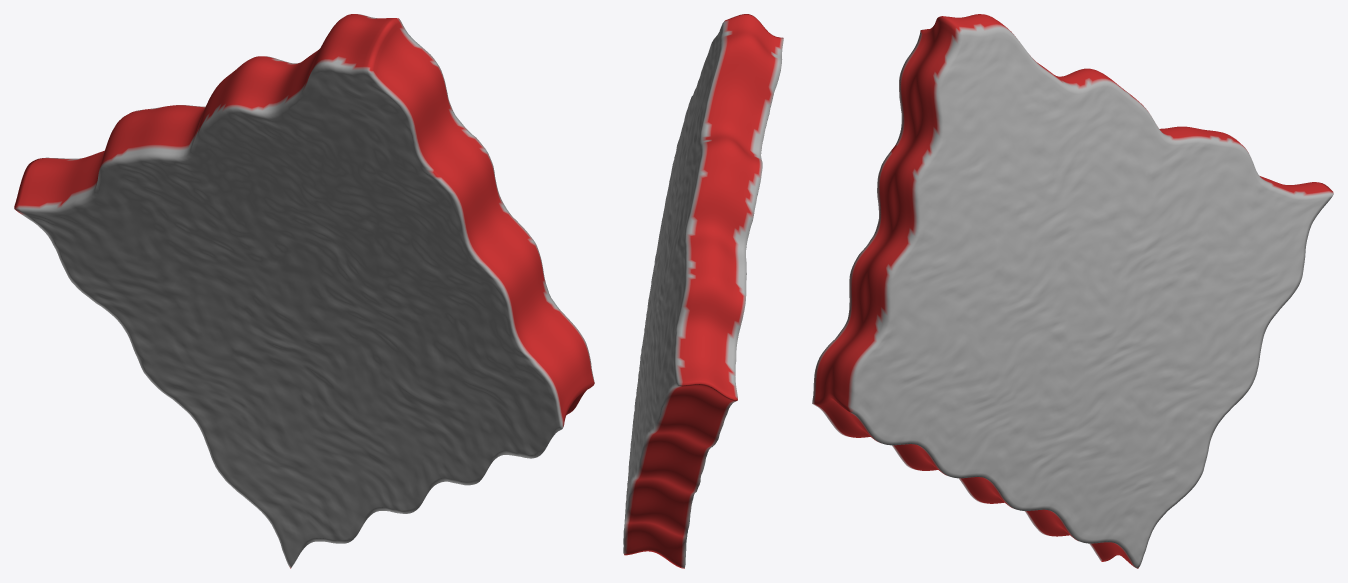
File: pieceA.seg.glb
3 renders of one model, left to right at view 1: azimuth 30°, elevation 25°; view 2: azimuth 150°, elevation 25°; view 3: azimuth 270°, elevation 25°, orthographic. The views are drawn at different scales.
Visible parts, largest first — view 1: pieceA; view 2: pieceA; view 3: pieceA.
Part boxes in pixels (bbox=[...]): pieceA: bbox=[14, 14, 594, 568]; pieceA: bbox=[623, 14, 783, 568]; pieceA: bbox=[812, 14, 1333, 568].
Size of the model in its own units: 149 by 258 by 221.
